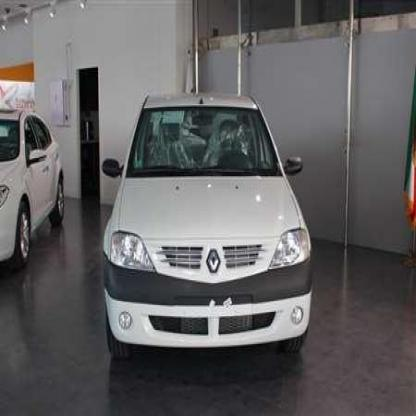Car: (101, 89, 317, 362), (0, 104, 66, 283)
